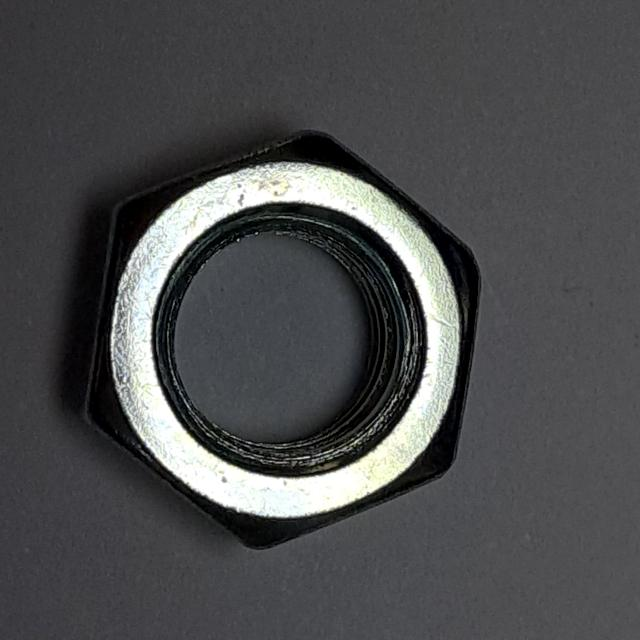Excellent: (66, 114, 493, 566)
